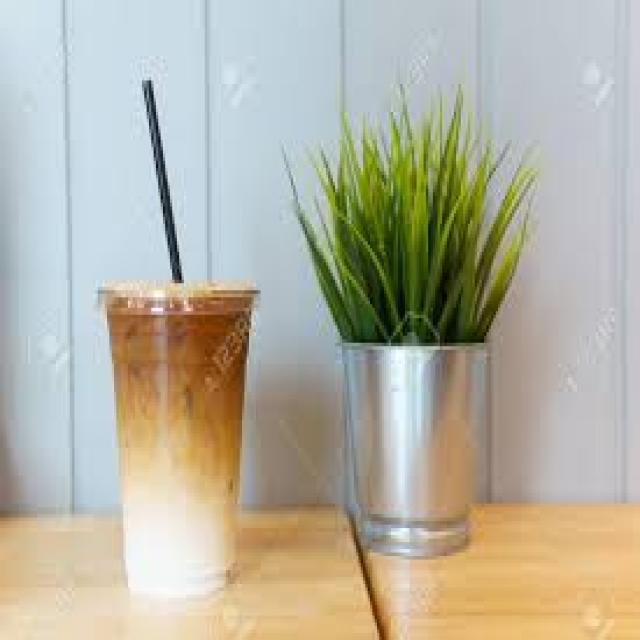bottle: (100, 282, 259, 596)
